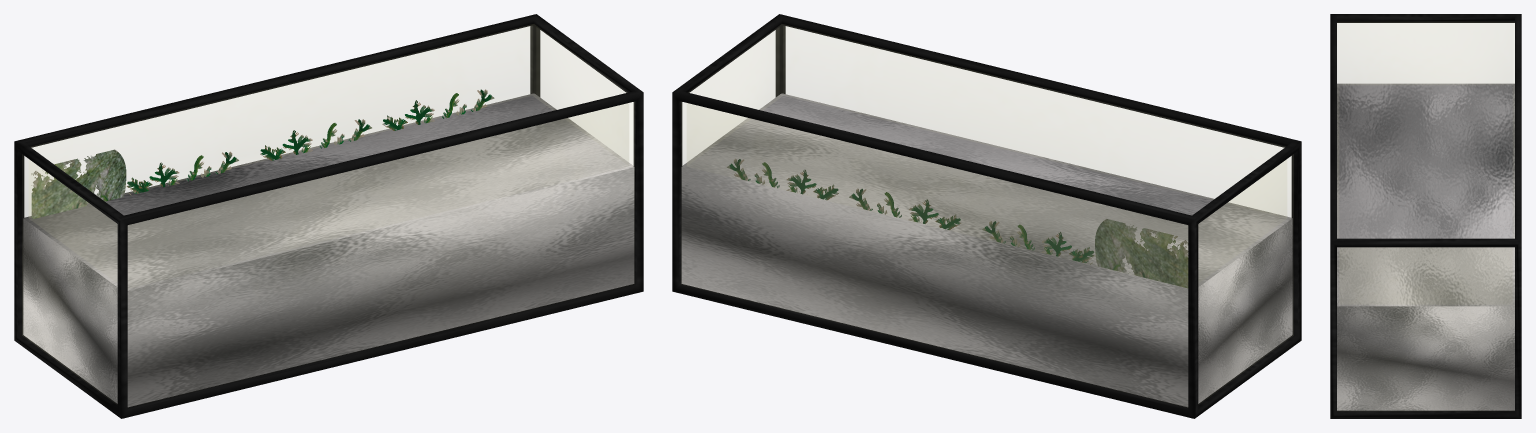
File: Fish_Tank.fbx
3 views of the same model, side by side, from view 1: azimuth 30°, elevation 25°; view 2: azimuth 150°, elevation 25°; view 3: azimuth 270°, elevation 25° (orthographic). The views are drawn at different scales.
Visible parts, largest first — view 1: Water, Glass, Frame, Plants; view 2: Water, Glass, Frame, Plants; view 3: Water, Glass, Frame.
Boxes of the visible parts, <box> form: Water: <box>23,93,634,407</box>; Glass: <box>24,26,633,288</box>; Frame: <box>14,14,643,418</box>; Plants: <box>31,89,494,218</box>; Water: <box>681,93,1292,407</box>; Glass: <box>682,26,1291,288</box>; Frame: <box>672,14,1301,418</box>; Plants: <box>727,158,1188,288</box>; Water: <box>1337,83,1514,410</box>; Glass: <box>1337,23,1514,304</box>; Frame: <box>1330,14,1521,418</box>.
Size of the model in its own units: 140 by 50.88 by 49.62.
Materials: 5 (5 with a texture image).
